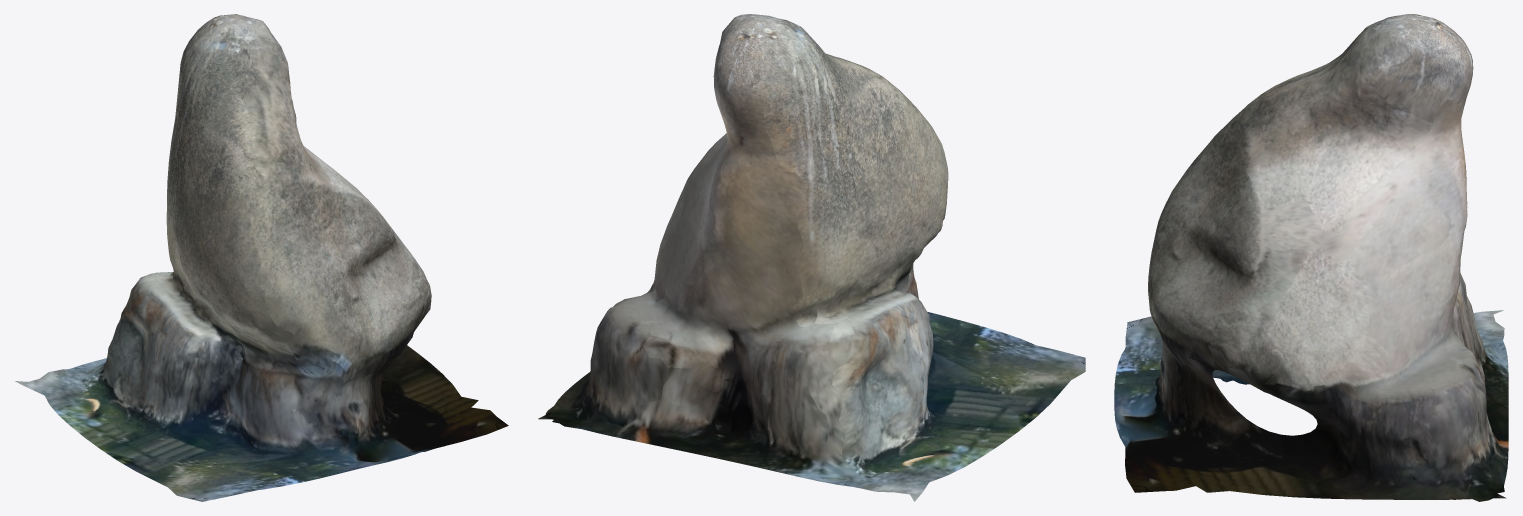
The picture shows the model from 3 angles, left to right: view 1: azimuth 30°, elevation 25°; view 2: azimuth 150°, elevation 25°; view 3: azimuth 270°, elevation 25°; orthographic projection. The views are drawn at different scales.
Parts seen in each view (by area): view 1: Object; view 2: Object; view 3: Object.
Part boxes in pixels (box(x1,y1,x2,y2)): Object: box(15, 14, 508, 501); Object: box(538, 14, 1085, 501); Object: box(1114, 14, 1508, 501).
Size of the model in its own units: 1.05 by 1.06 by 0.9497.
1 material, 1 textured.
